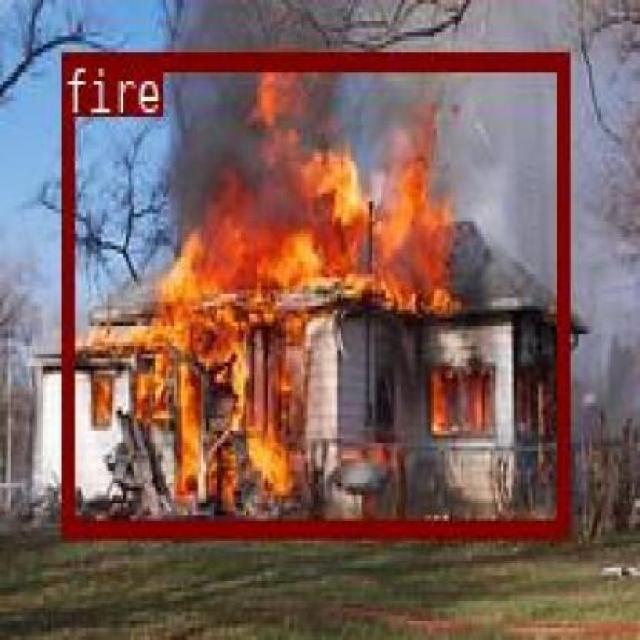Fire: (61, 50, 567, 532)
